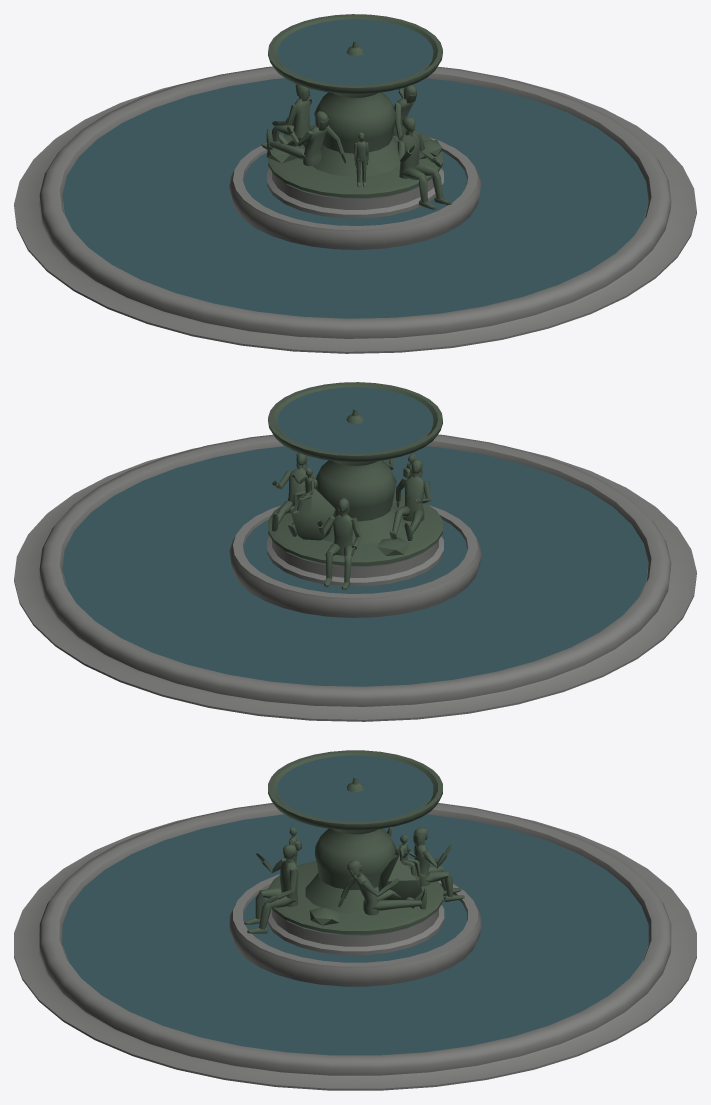
File: mon_stille_wasser.glb
3 views of the same model, one above another, from view 1: azimuth 30°, elevation 25°; view 2: azimuth 150°, elevation 25°; view 3: azimuth 270°, elevation 25° (orthographic).
Parts seen in each view (by area): view 1: mon_stille_wasser; view 2: mon_stille_wasser; view 3: mon_stille_wasser.
Part boxes in pixels (x1,y1,x2,y2): mon_stille_wasser: [14, 14, 696, 353]; mon_stille_wasser: [14, 382, 696, 721]; mon_stille_wasser: [14, 750, 696, 1090].
Bounding box in the file's own units: 19.44 × 5.3 × 19.44.
